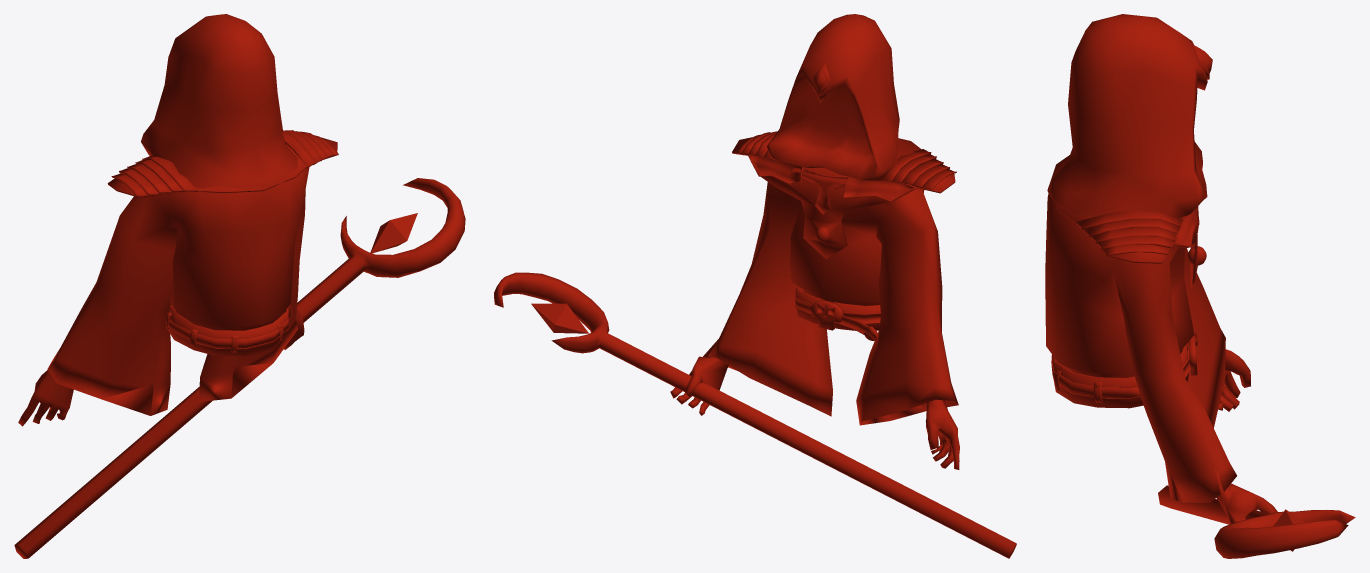
The model's file is top_000058.obj.
The picture shows the model from 3 angles, left to right: view 1: azimuth 30°, elevation 25°; view 2: azimuth 150°, elevation 25°; view 3: azimuth 270°, elevation 25°; orthographic projection. The views are drawn at different scales.
Parts seen in each view (by area): view 1: LowPoly_Warlock.000_Plane.005; view 2: LowPoly_Warlock.000_Plane.005; view 3: LowPoly_Warlock.000_Plane.005.
Boxes of the visible parts, <box> form: LowPoly_Warlock.000_Plane.005: <box>14,14,465,558</box>; LowPoly_Warlock.000_Plane.005: <box>494,14,1016,558</box>; LowPoly_Warlock.000_Plane.005: <box>1045,14,1355,558</box>.
Bounding box in the file's own units: 1.75 × 1.74 × 0.8193.
